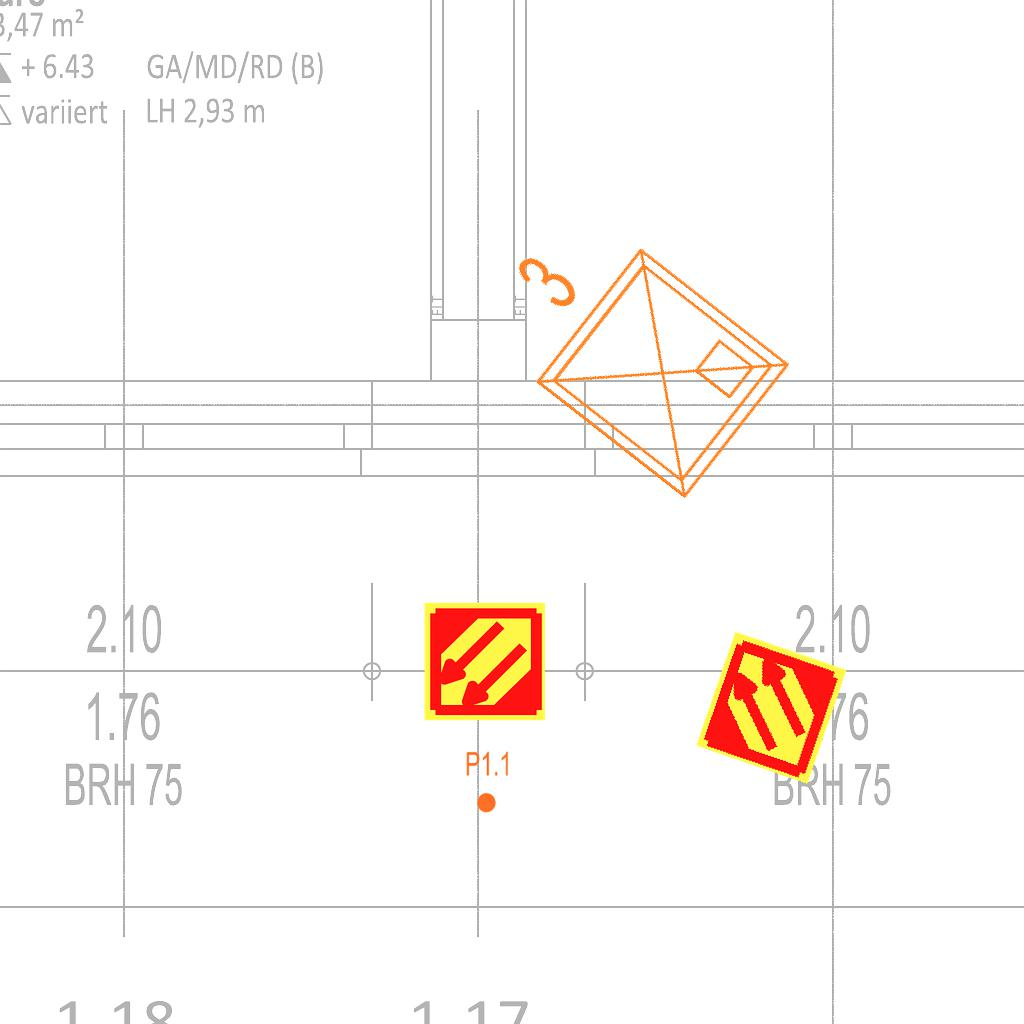ASR_Ansaugrauchmelder: (692, 628, 851, 787), (422, 599, 547, 724)
Downlight_LED_Einbauleuchten_Flur: (465, 750, 511, 814)
Einbaudownlights_LED_Konferenzraeume: (445, 176, 811, 526)
